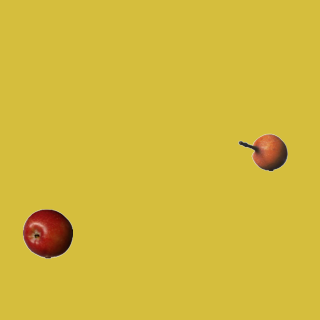Apple Braeburn: (22, 208, 72, 258)
Granadilla: (237, 127, 287, 177)
